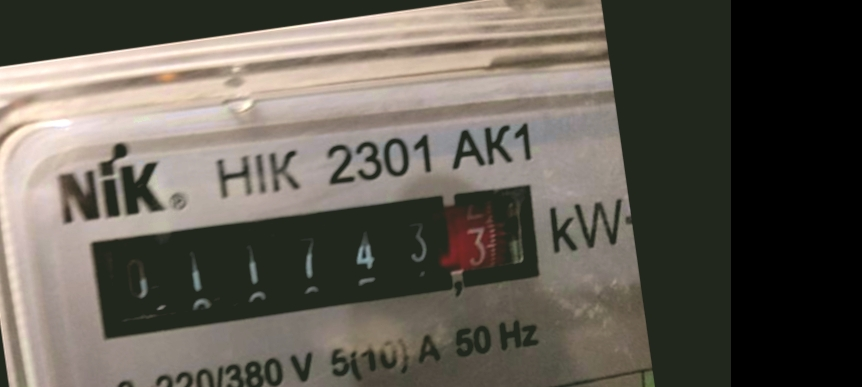0: (118, 252, 153, 303)
1: (237, 238, 264, 288), (183, 246, 206, 296)
3: (400, 216, 434, 267), (461, 222, 491, 269)
4: (346, 223, 380, 274)
7: (293, 232, 323, 283)
screen: (73, 170, 550, 351)
